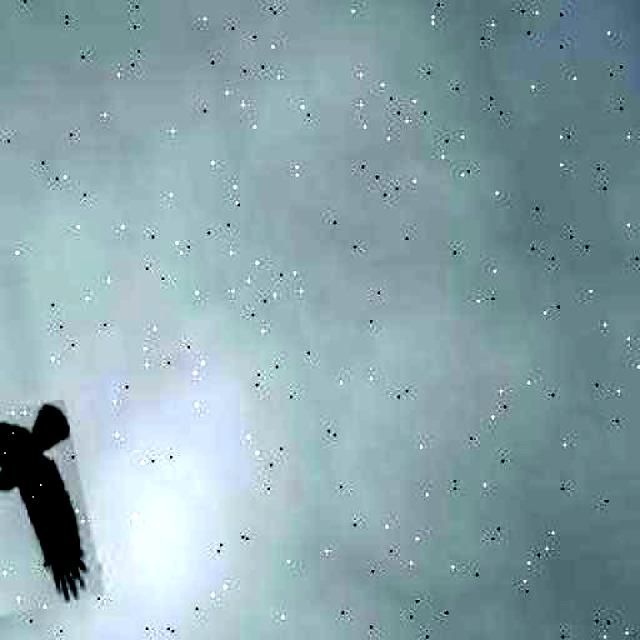airplane: (0, 399, 105, 619)
